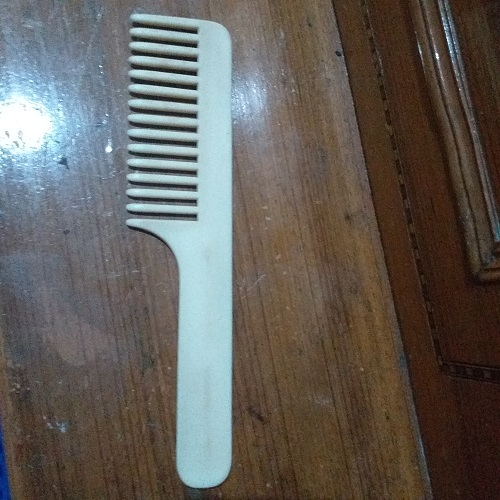comb: (118, 6, 248, 495)
